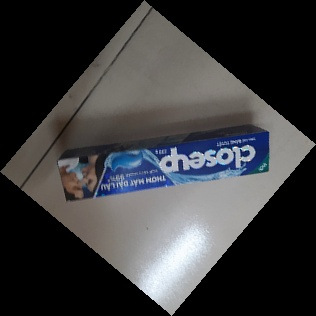CloseUp Tuyet: (55, 123, 271, 205)
